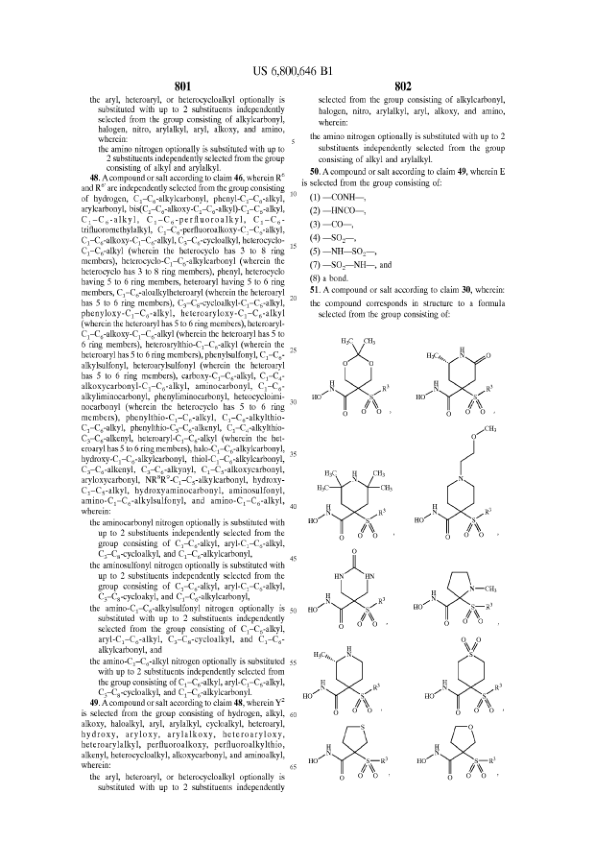compound-structure: (412, 426, 505, 546), (416, 633, 510, 717), (311, 332, 394, 427), (308, 454, 398, 541), (305, 547, 388, 632), (413, 336, 495, 421), (301, 639, 384, 717), (409, 559, 497, 629), (304, 721, 391, 786), (415, 723, 499, 783)
